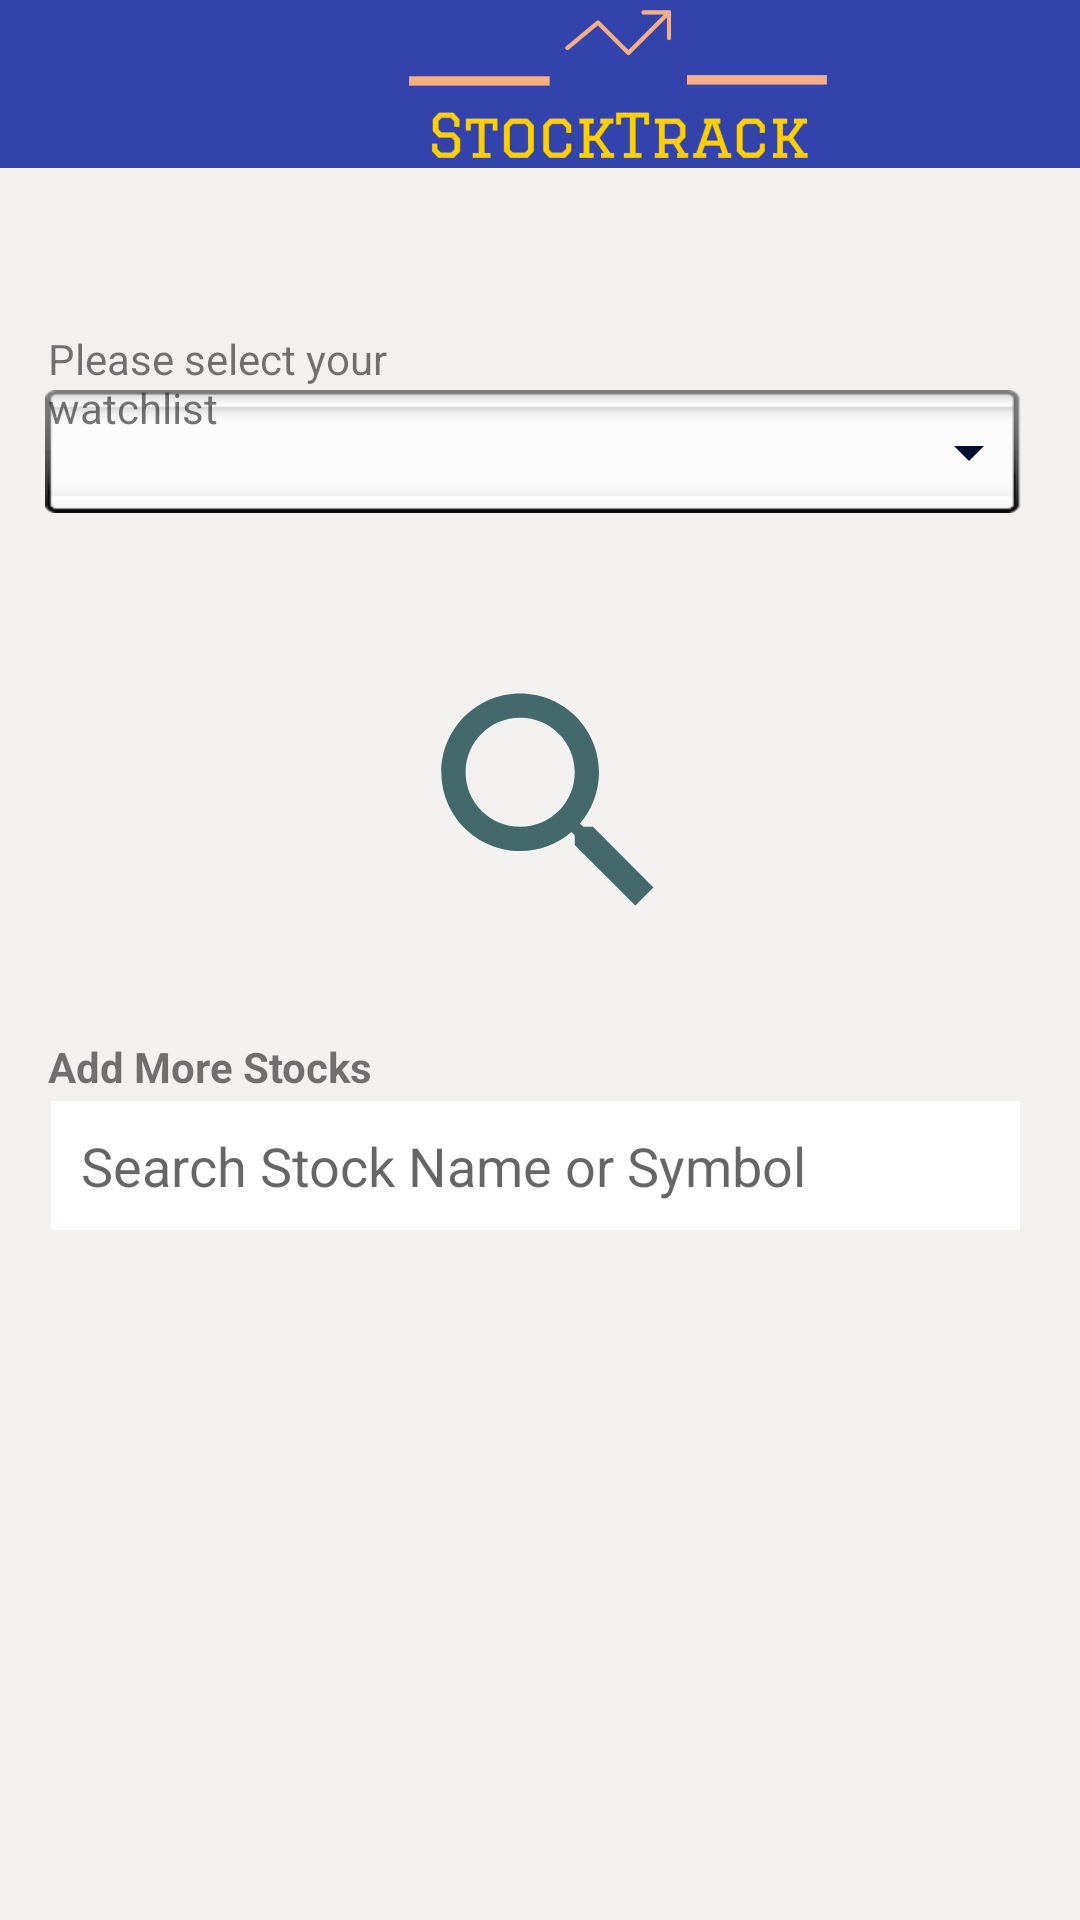

Icon bounding boxes for this 1080*1920 phone screenshot, format (x1, y1, x2, y2):
arrow drop down: (954, 446, 984, 461)
search snazzy: (441, 693, 654, 906)
